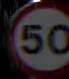Speed limit: (5, 0, 68, 74)
